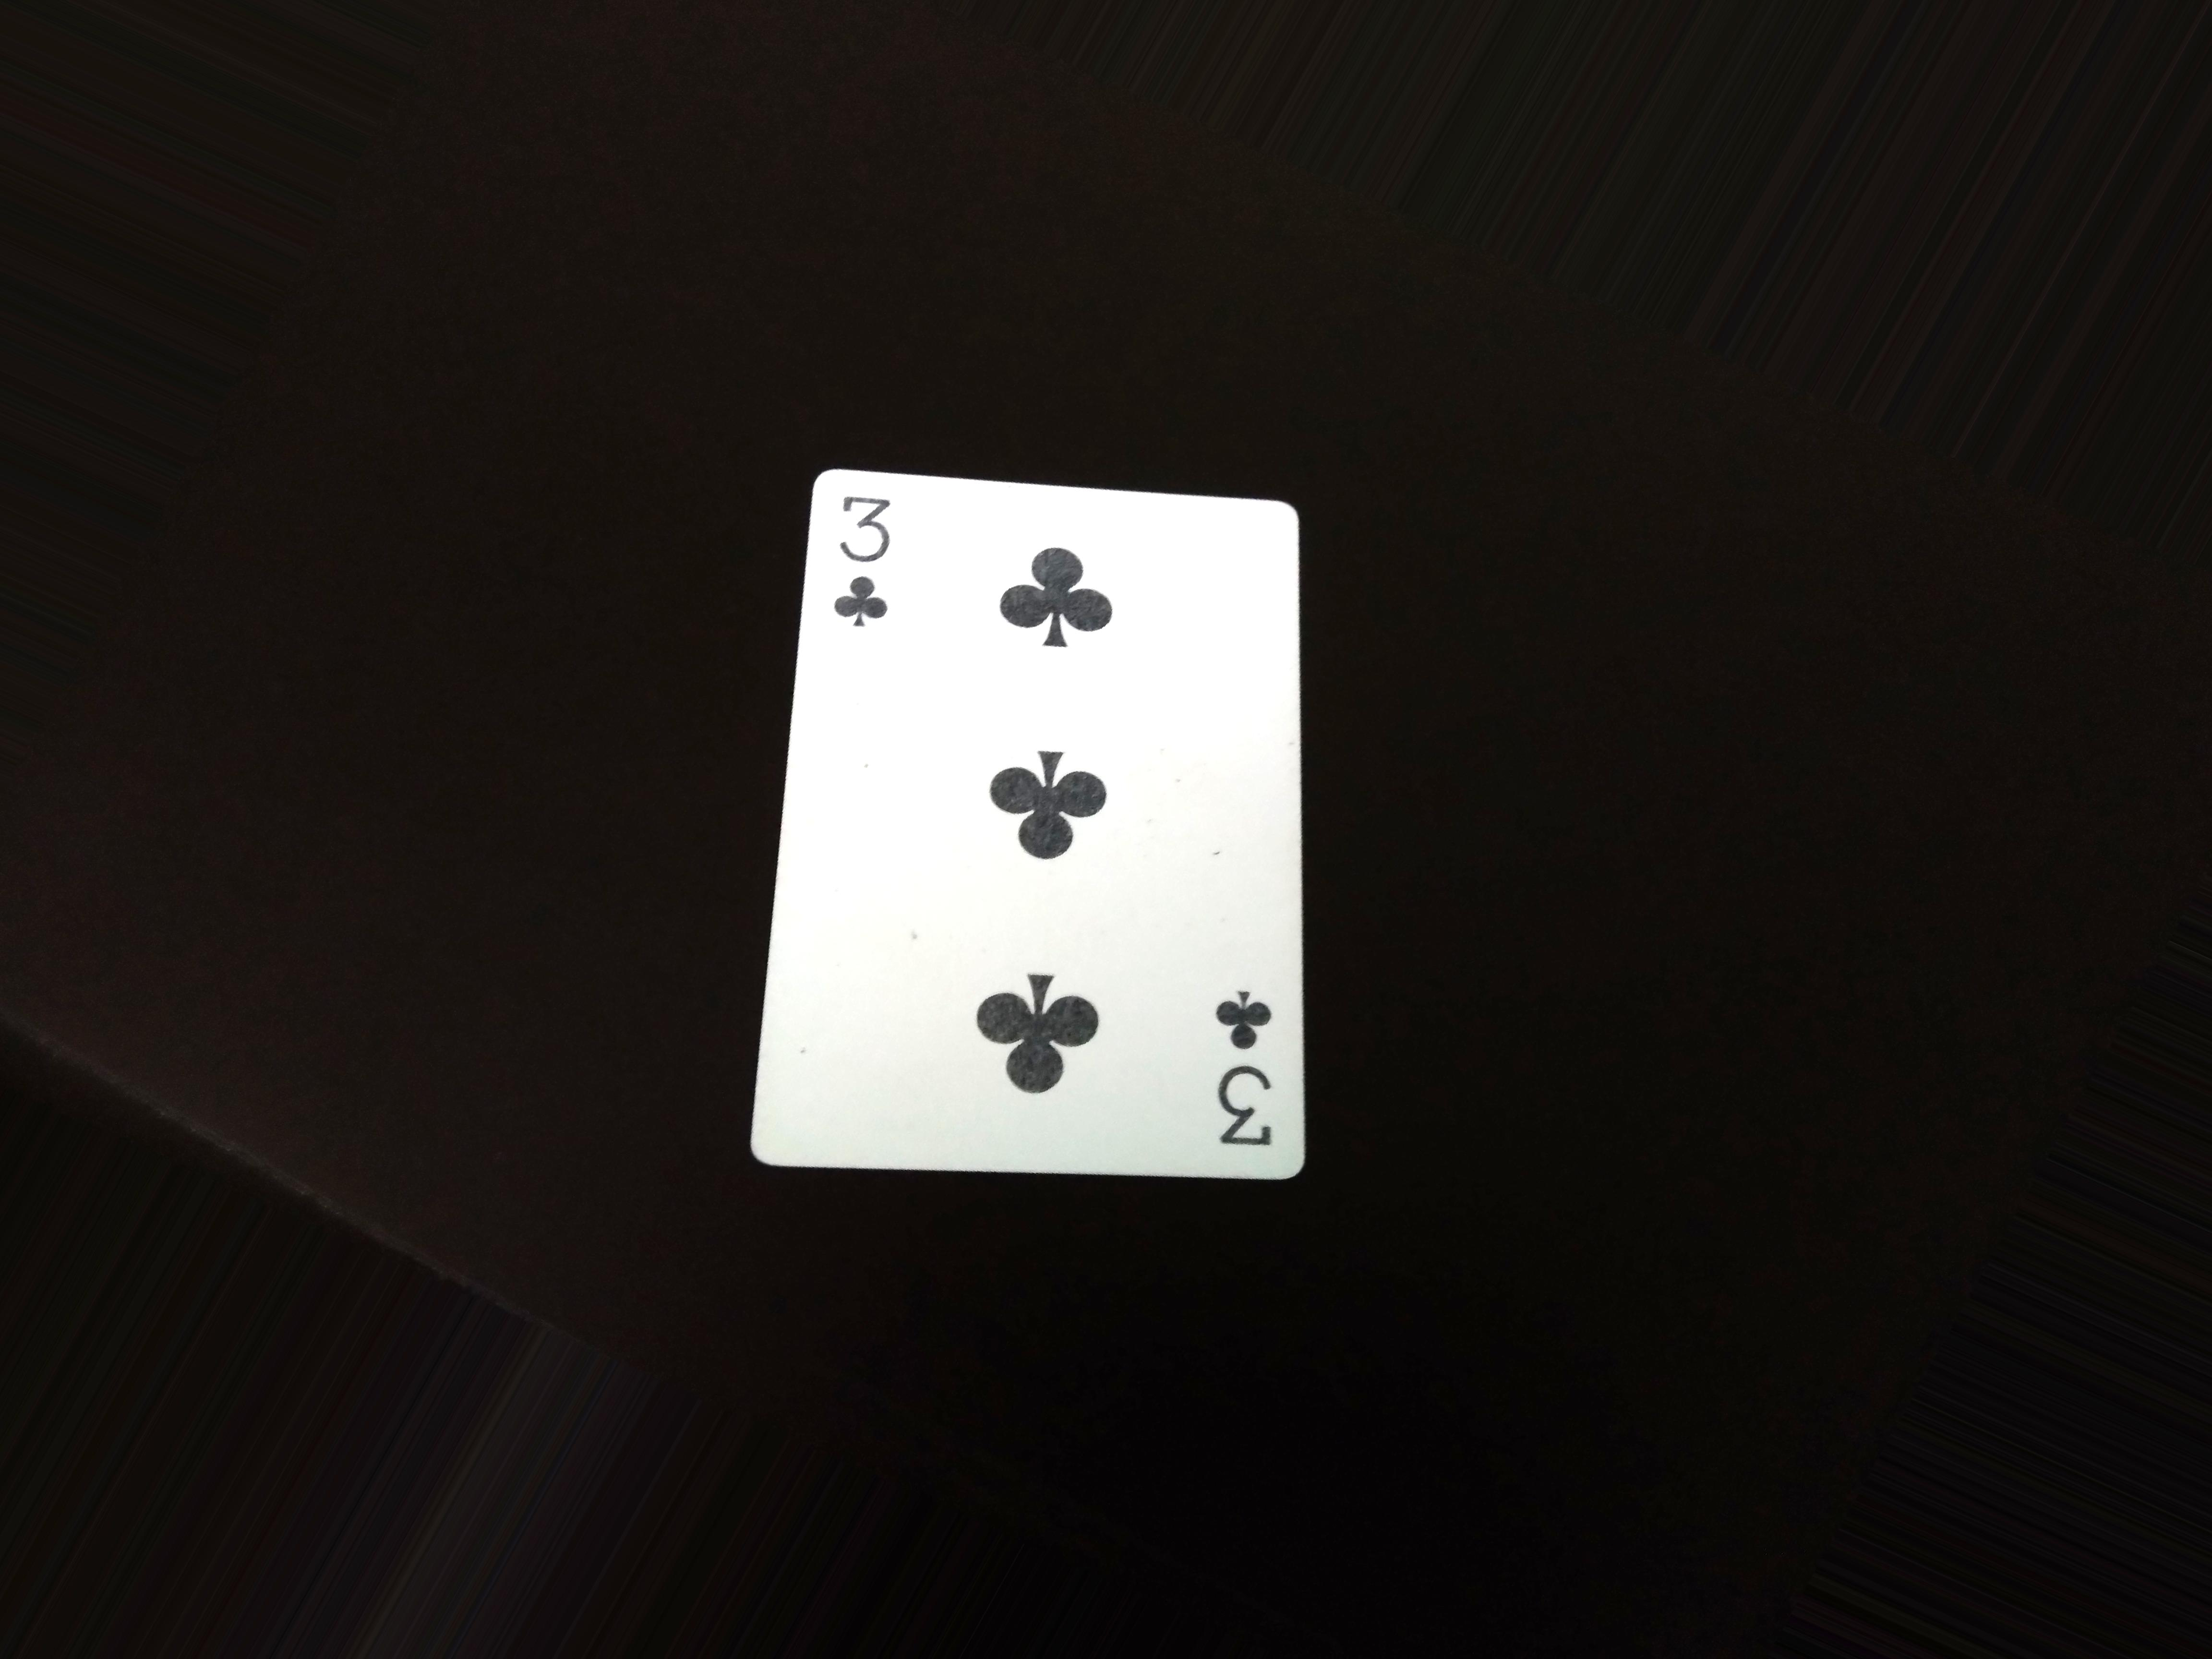3C: (815, 479, 918, 645)
